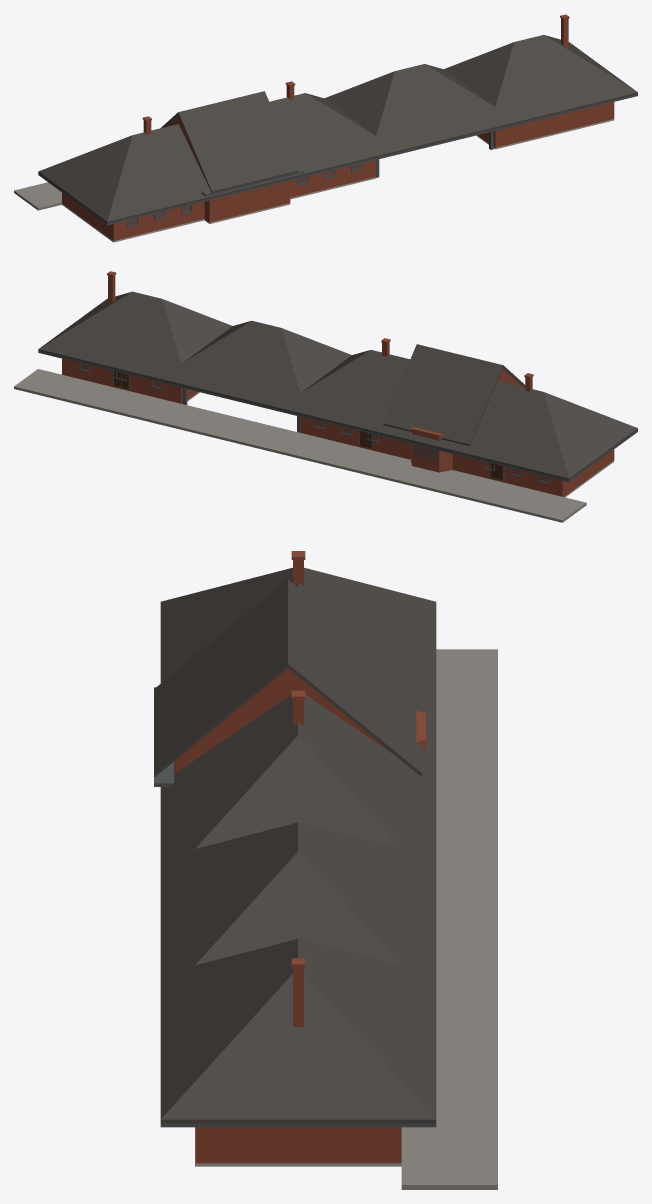
Rendered from Watertown_Depot.glb.
3 views of the same model, one above another, from view 1: azimuth 30°, elevation 25°; view 2: azimuth 150°, elevation 25°; view 3: azimuth 270°, elevation 25° (orthographic). The views are drawn at different scales.
Visible parts, largest first — view 1: roof, brick, trim, foundation, platform, chimney; view 2: roof, platform, brick, trim, glass, doors, chimney, sash; view 3: roof, platform, brick, trim, chimney.
Boxes of the visible parts, x1,y1,x2,y2 form: roof: (38,35,637,223); brick: (62,102,614,240); trim: (38,94,637,225); foundation: (62,119,614,242); platform: (14,182,61,210); chimney: (142,14,569,134); roof: (38,291,637,480); platform: (14,369,586,522); brick: (62,358,614,496); trim: (38,351,637,482); glass: (81,364,547,481); doors: (114,371,502,479); chimney: (107,271,533,391); sash: (79,363,548,484); roof: (154,567,436,1123); platform: (401,649,497,1189); brick: (174,668,425,1163); trim: (154,687,436,1127); chimney: (291,551,305,1026).
Bounding box in the file's own units: 1.93 × 0.3095 × 0.5256.
